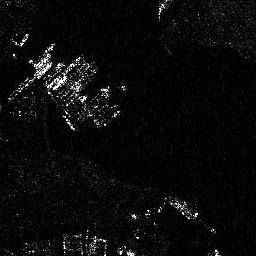ship: (30, 42, 54, 71)
